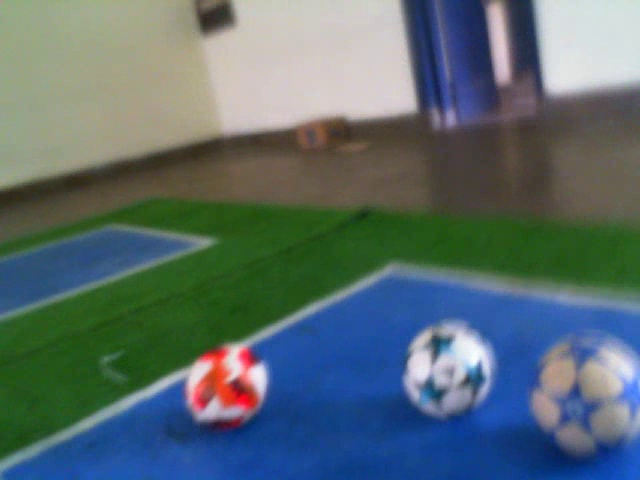ball: (524, 325, 640, 466), (394, 314, 502, 427), (182, 340, 273, 434)
